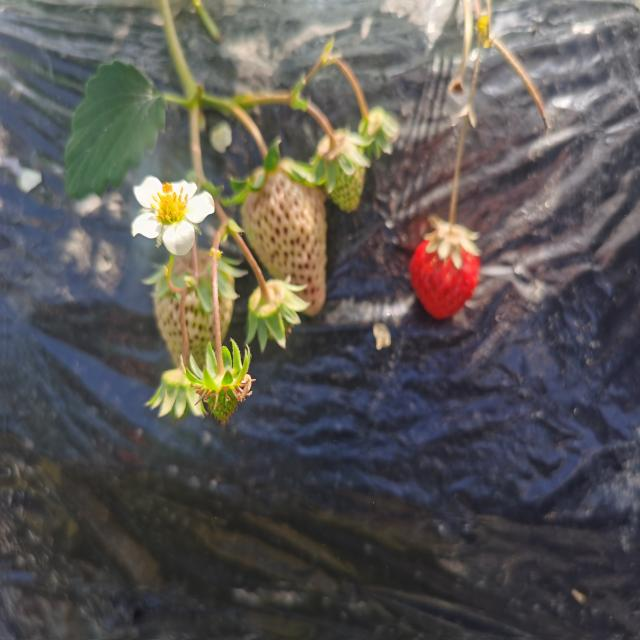strawberry: (410, 228, 480, 319)
